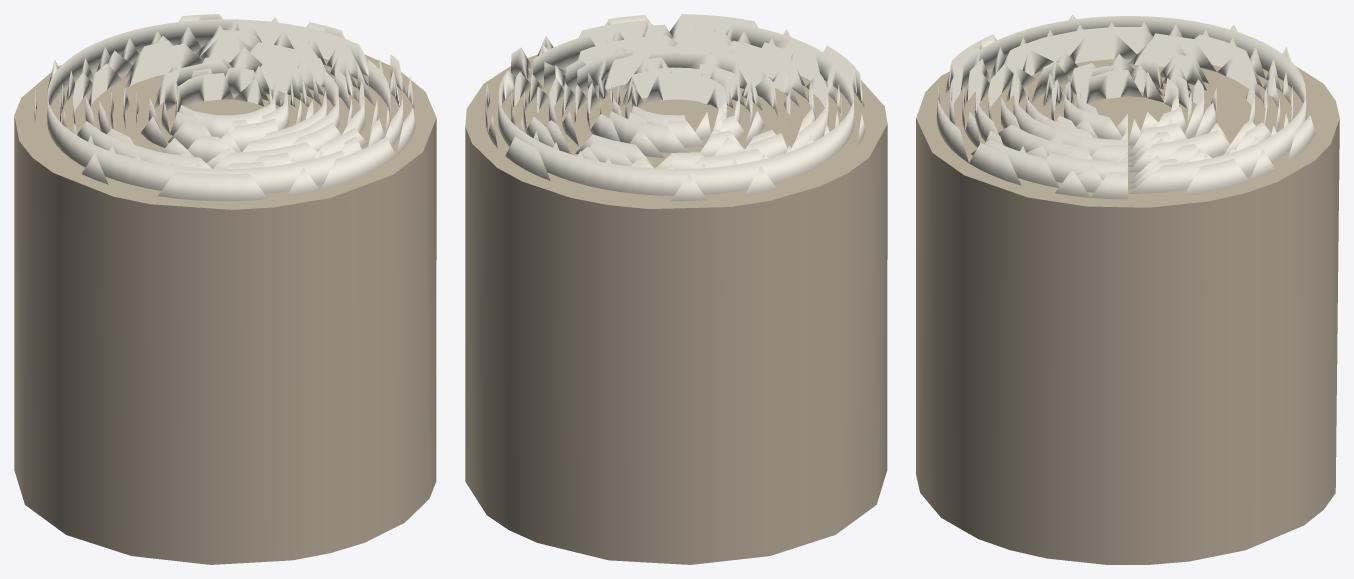
File: rug-15-5.lod.glb
The picture shows the model from 3 angles, left to right: view 1: azimuth 30°, elevation 25°; view 2: azimuth 150°, elevation 25°; view 3: azimuth 270°, elevation 25°; orthographic projection.
Parts seen in each view (by area): view 1: part (×2); view 2: part (×2); view 3: part (×2).
Part boxes in pixels (<box>): part (×2): <box>14,14,436,564</box>; part (×2): <box>465,14,887,564</box>; part (×2): <box>916,14,1339,564</box>.
Bounding box in the file's own units: 1 × 1 × 1.
